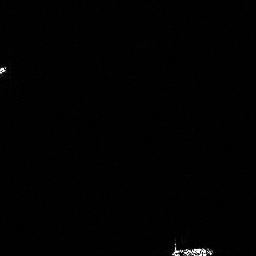ship: (170, 247, 213, 256)
